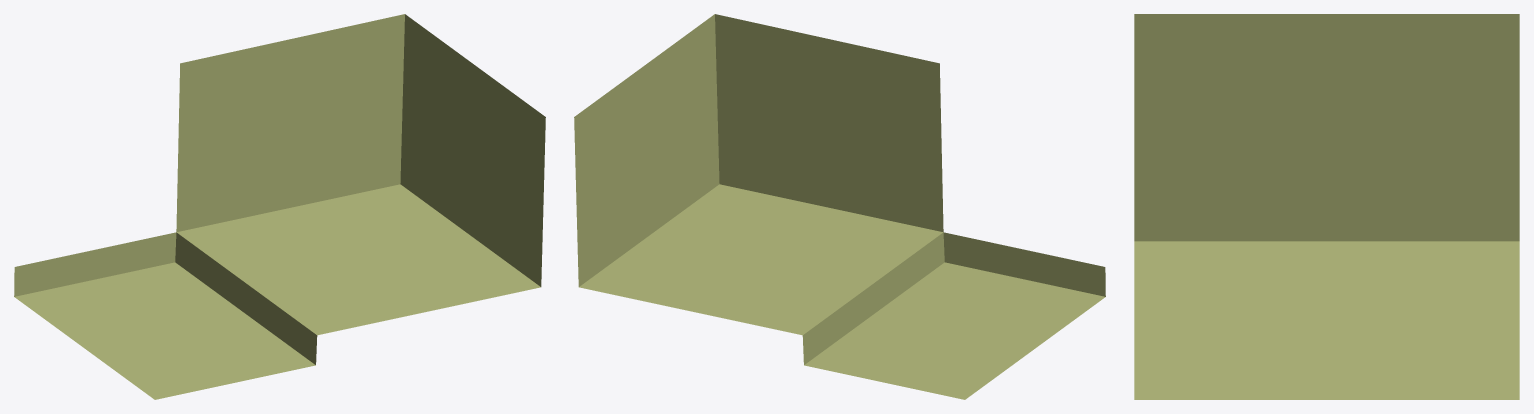
3 views of the same model, side by side, from view 1: azimuth 30°, elevation 25°; view 2: azimuth 150°, elevation 25°; view 3: azimuth 270°, elevation 25° (orthographic). The views are drawn at different scales.
Visible parts, largest first — view 1: 0_2_3_2_1_2_0_1_3_3_2; view 2: 0_2_3_2_1_2_0_1_3_3_2; view 3: 0_2_3_2_1_2_0_1_3_3_2.
Part boxes in pixels (<box>): 0_2_3_2_1_2_0_1_3_3_2: <box>14,14,545,399</box>; 0_2_3_2_1_2_0_1_3_3_2: <box>574,14,1105,399</box>; 0_2_3_2_1_2_0_1_3_3_2: <box>1134,14,1519,399</box>.
Bounding box in the file's own units: 9.62 × 4.65 × 6.
